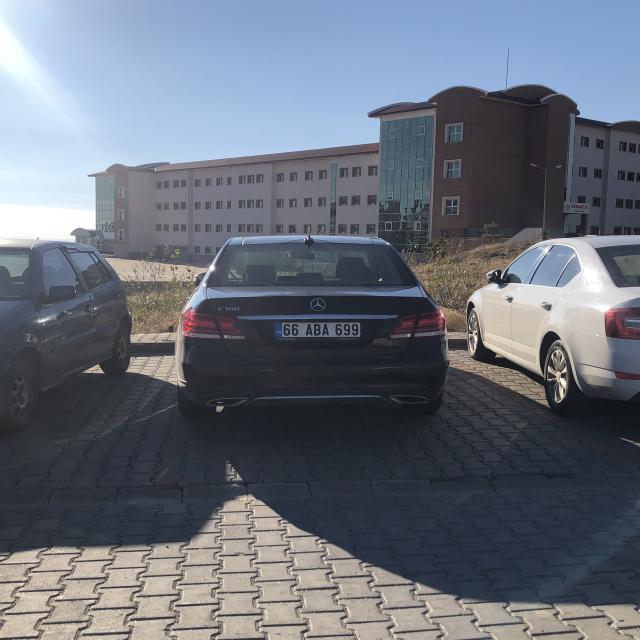license_plate: (274, 323, 362, 337)
